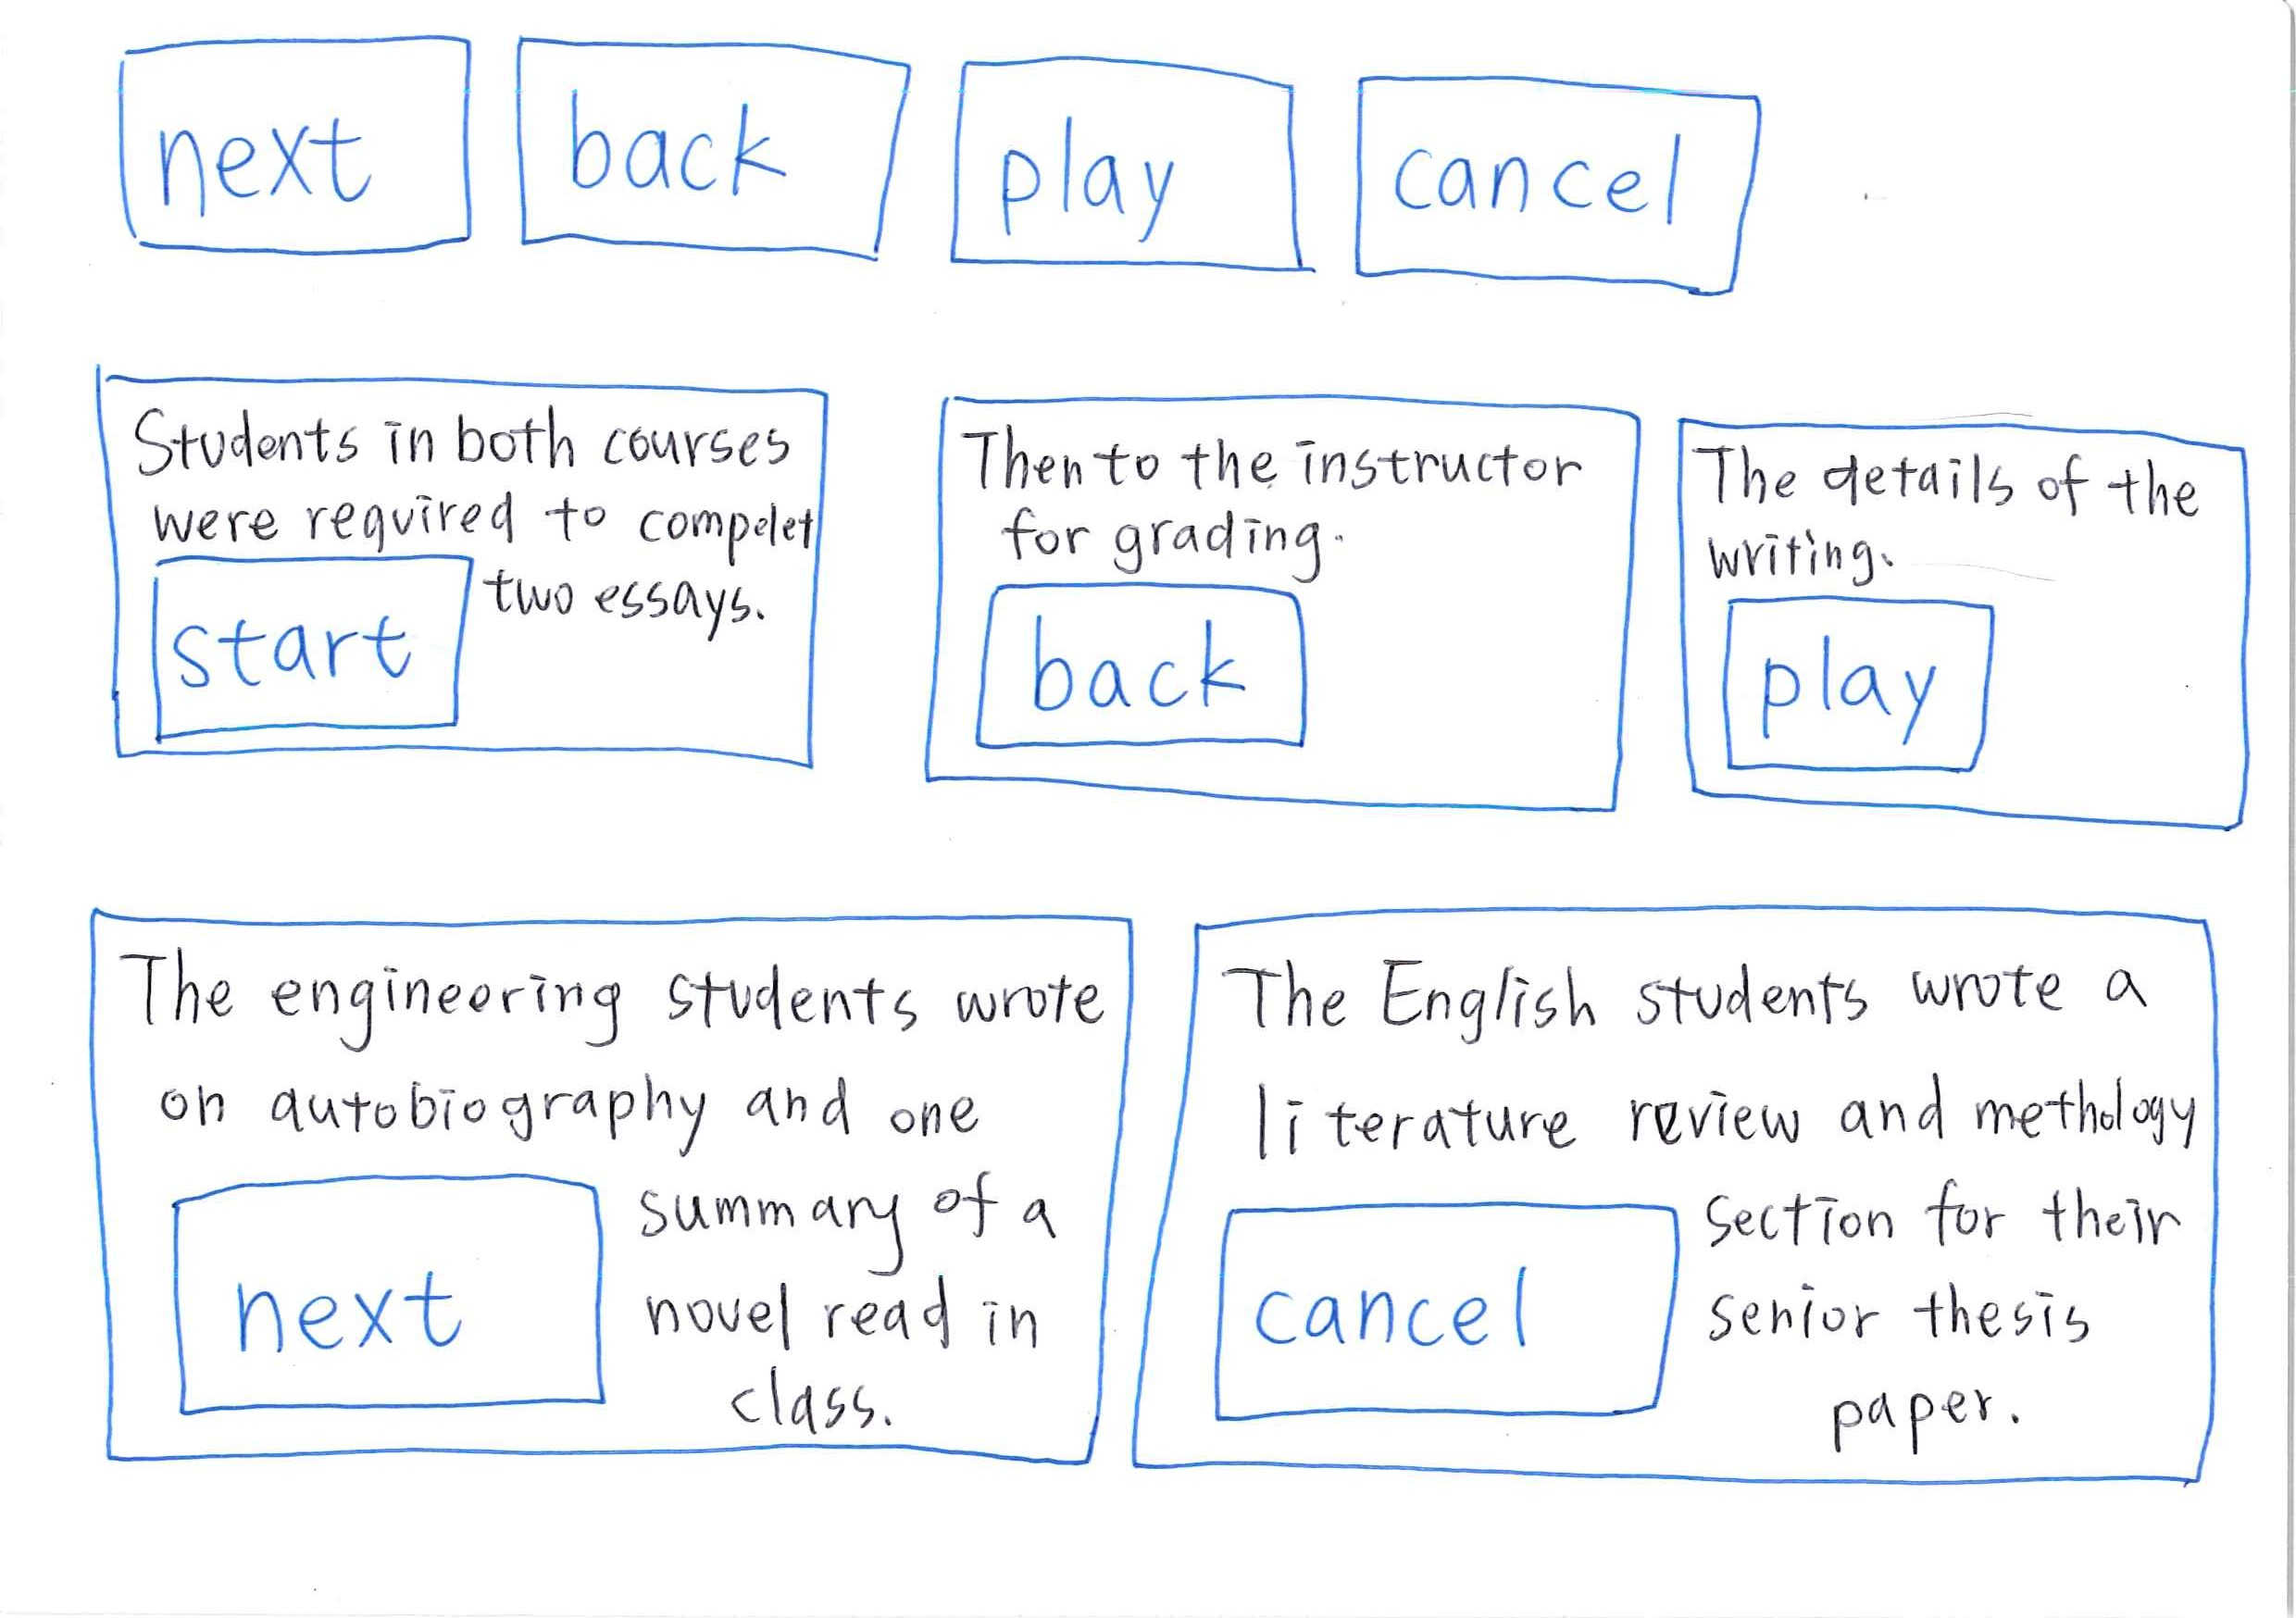back: (499, 14, 925, 299), (961, 567, 1324, 774)
cancel: (1200, 1185, 1711, 1445), (1331, 53, 1800, 331)
double: (56, 359, 1671, 853), (1114, 883, 2284, 1520), (53, 870, 1158, 1541), (1655, 378, 2296, 872)
next: (159, 1159, 622, 1443), (95, 18, 487, 292)
play: (935, 30, 1329, 289), (1711, 580, 2004, 788)
row: (60, 877, 2296, 1599), (60, 348, 2296, 881), (60, 7, 2294, 348)
small-title: (126, 937, 1105, 1051), (131, 403, 788, 527), (1226, 947, 2156, 1021), (972, 419, 1604, 515), (1709, 433, 2186, 525)
start: (135, 543, 482, 749)
text: (1722, 1185, 2194, 1448), (613, 1154, 1056, 1429), (1228, 1061, 2203, 1182), (159, 1049, 1040, 1163), (482, 499, 772, 672), (995, 506, 1363, 569), (1690, 527, 1921, 581)
